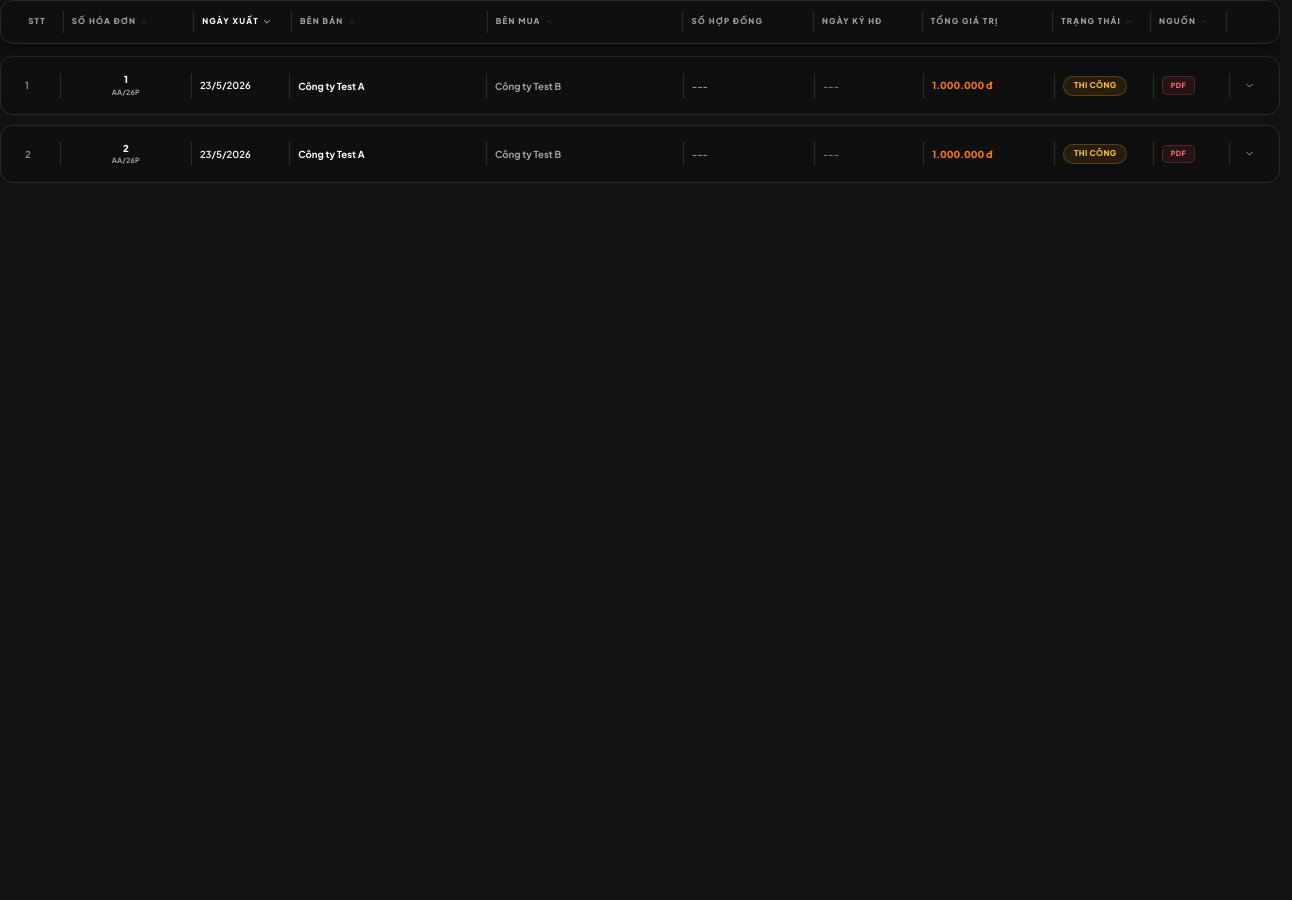
Test: DashboardInvoiceList Component › should enforce accordionMode (only one row open at a time)
Note: Expand row 1
Click the 5th button.
click(636, 86)  # box [17,73,1255,98]
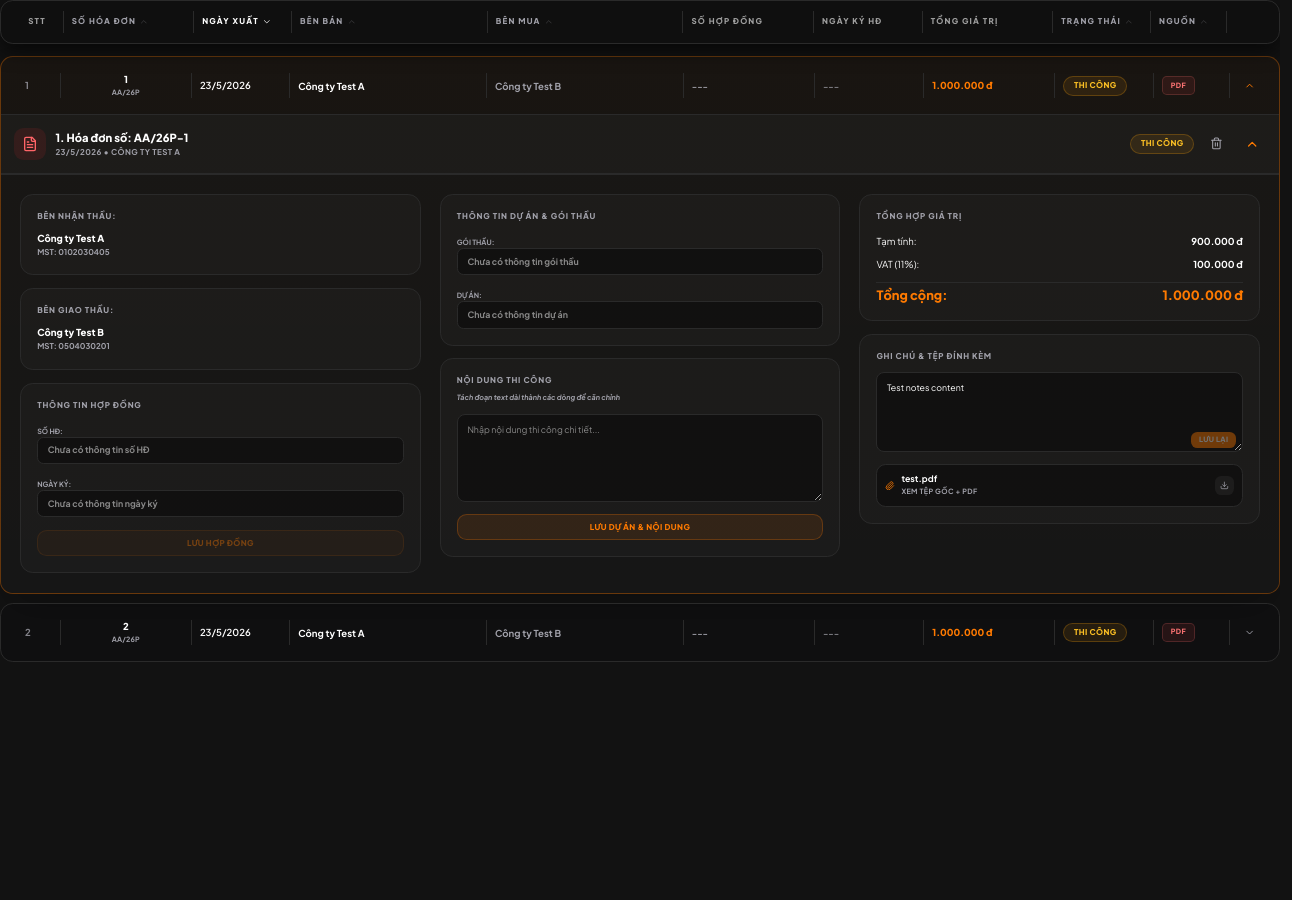
Note: Expand row 2
Click the 8th button.
click(636, 633)  # box [17,620,1255,645]
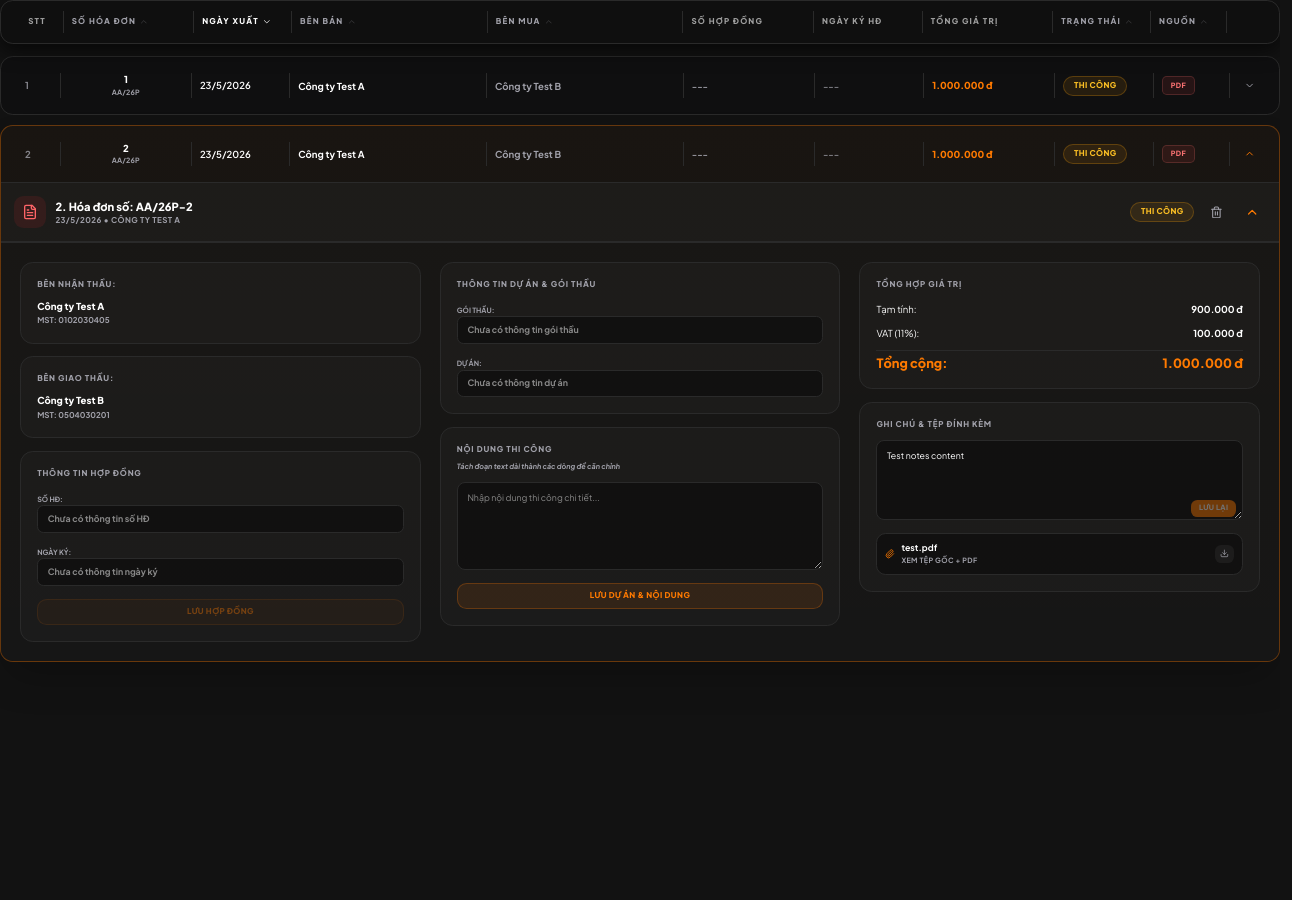
Expected: the 5th button is collapsed, [17,73,1255,98]
Expected: the 6th button is expanded, [17,142,1255,166]
